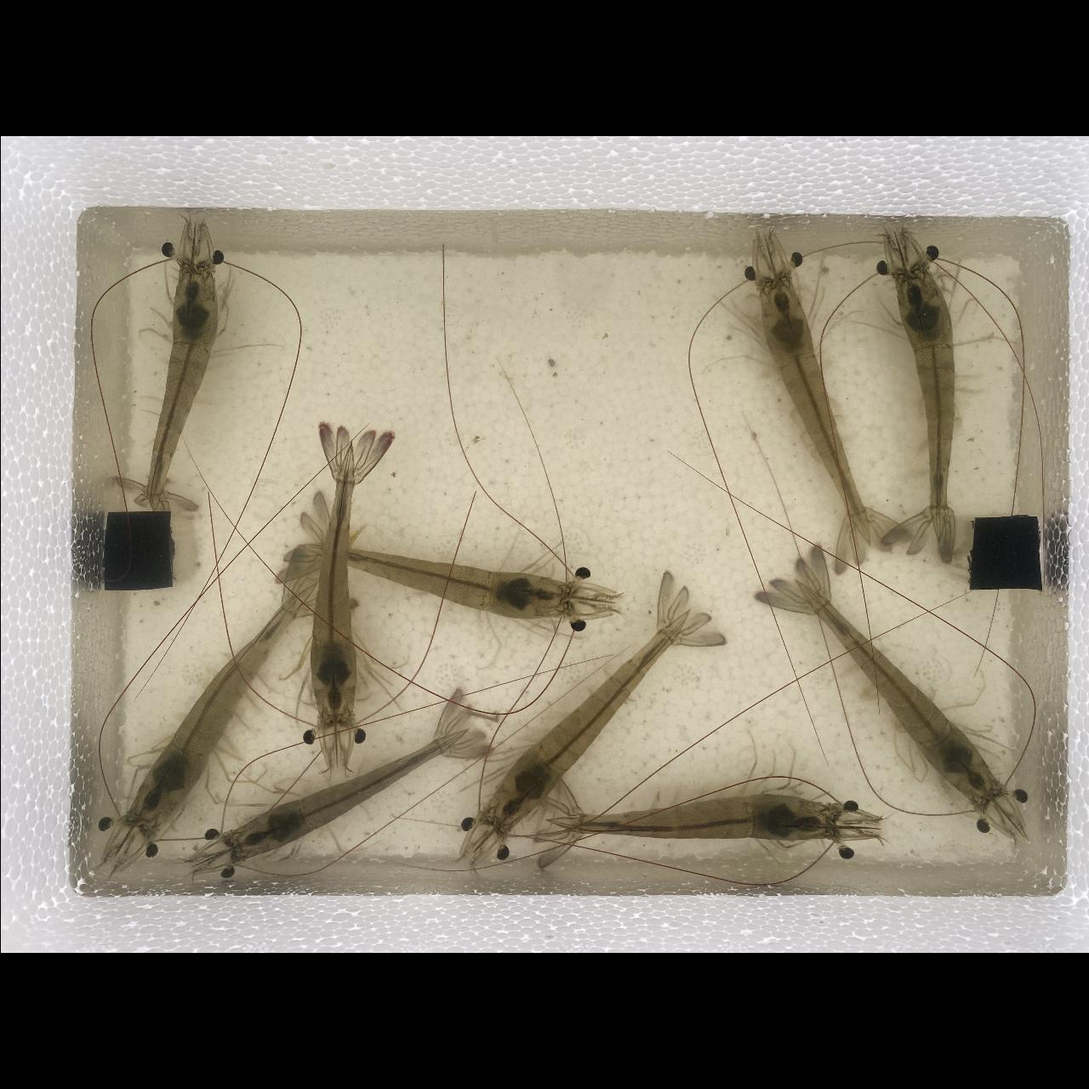box: (100, 510, 172, 590), (968, 517, 1040, 589)
top_shrimp: (487, 611, 686, 829), (798, 585, 997, 801), (128, 589, 305, 830), (230, 732, 465, 856), (761, 276, 864, 536), (145, 267, 216, 507), (897, 267, 955, 541), (342, 550, 562, 618), (555, 796, 834, 841), (311, 451, 354, 727)
